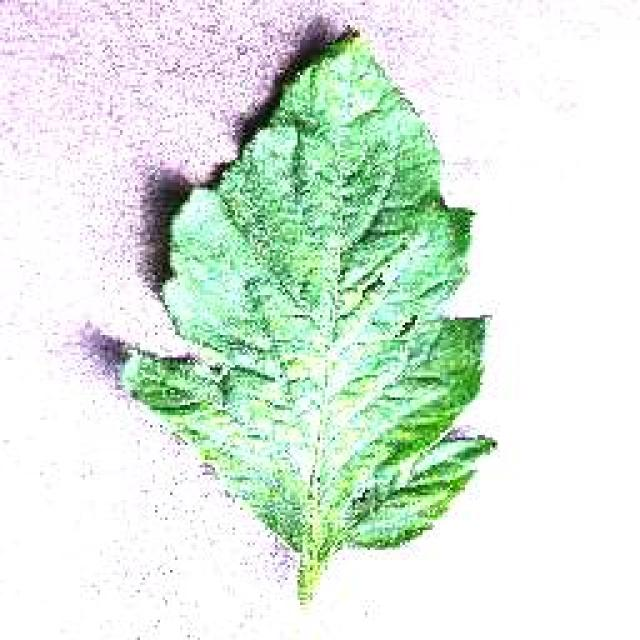Tomato___Tomato_mosaic_virus: (122, 38, 492, 598)
